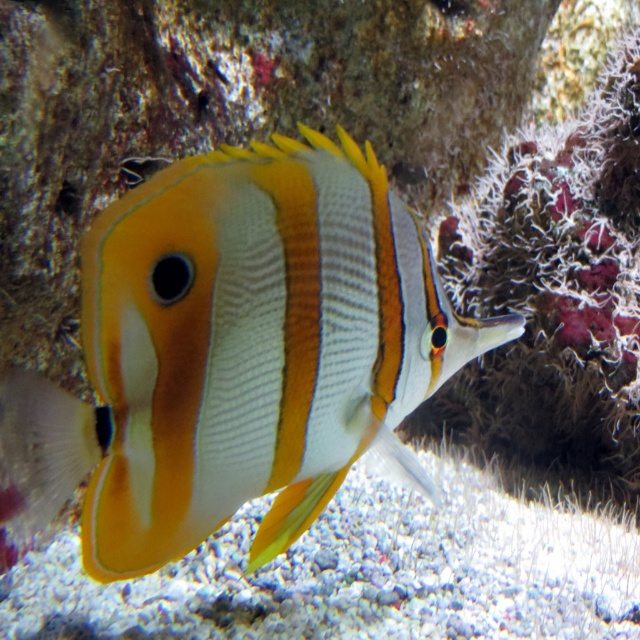Fish: (0, 122, 526, 584)
